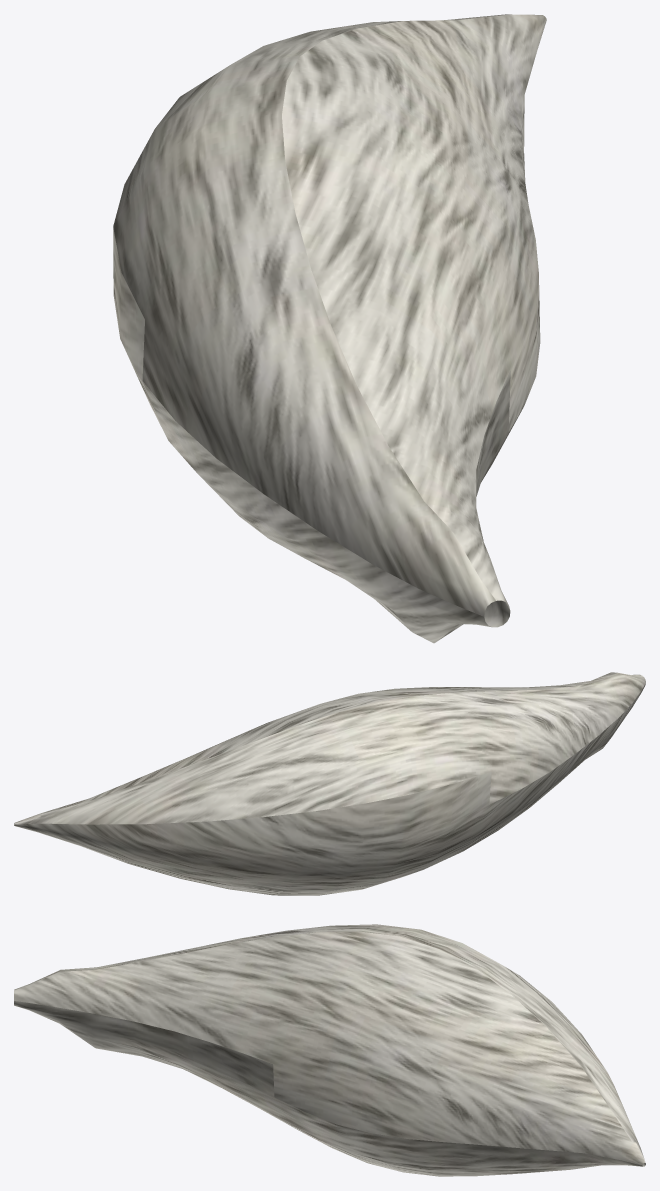
Rendered from foxtail-lite.glb.
3 renders of one model, top to bottom at view 1: azimuth 30°, elevation 25°; view 2: azimuth 150°, elevation 25°; view 3: azimuth 270°, elevation 25°, orthographic. The views are drawn at different scales.
Visible parts, largest first — view 1: foxtail; view 2: foxtail; view 3: foxtail.
Boxes of the visible parts, x1,y1,x2,y2 form: foxtail: (113,14,546,643); foxtail: (14,672,645,895); foxtail: (14,924,645,1176).
Bounding box in the file's own units: 0.392 × 0.2046 × 0.584.
Materials: 1 (1 with a texture image).
